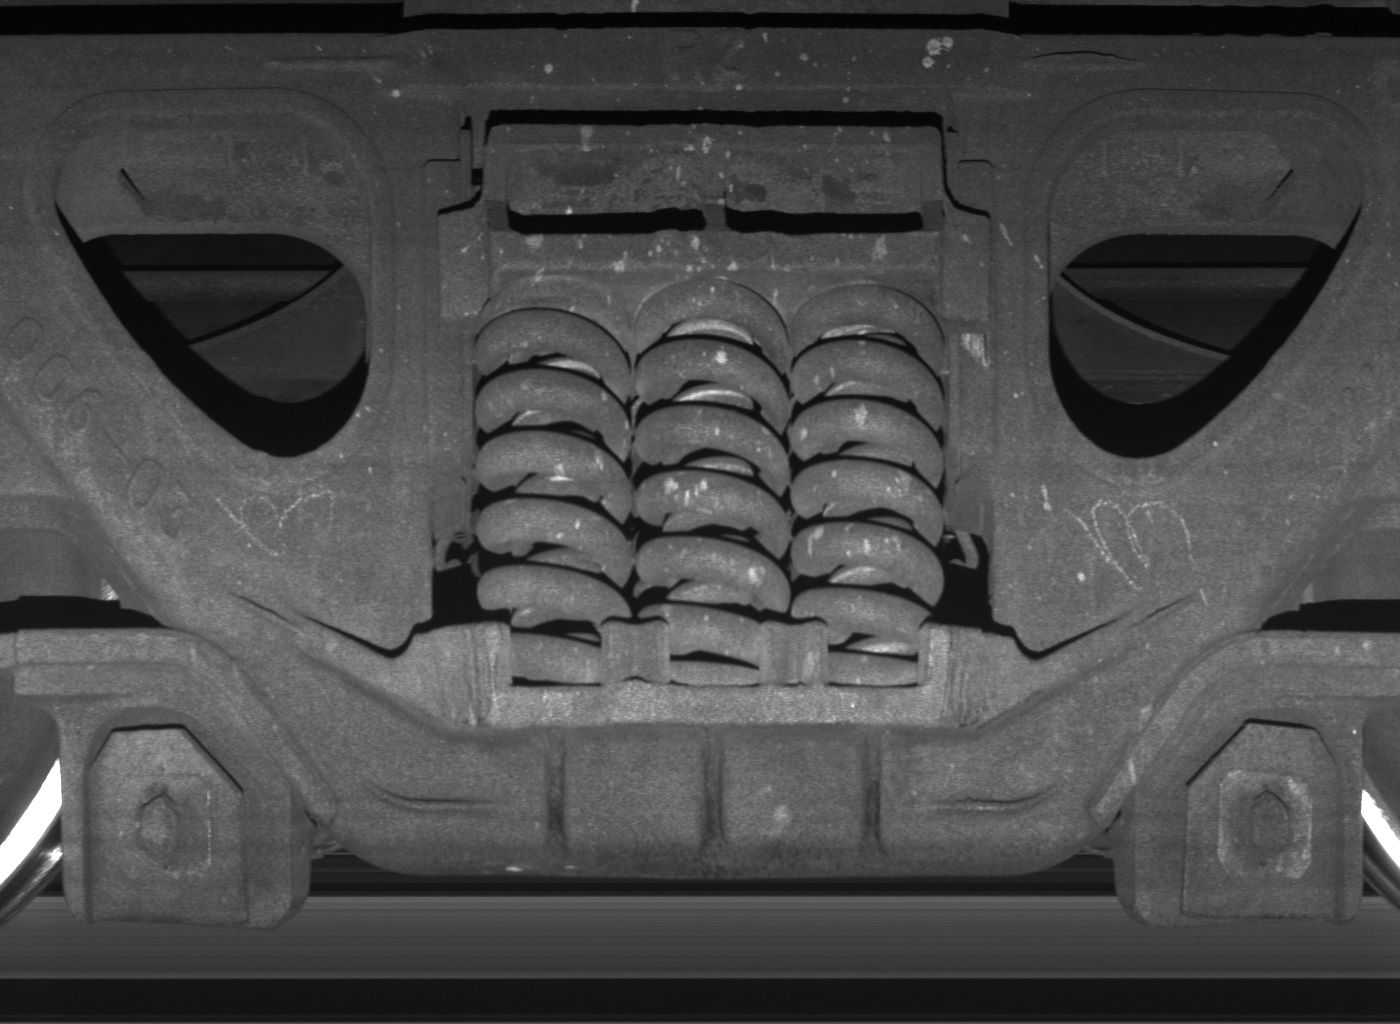normal: (63, 705, 296, 931), (1138, 712, 1362, 927)
